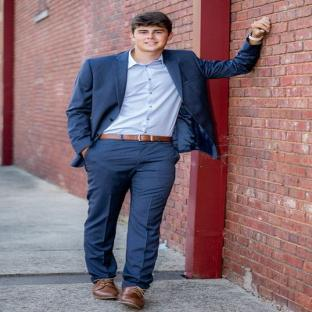Human: (66, 11, 270, 308)
